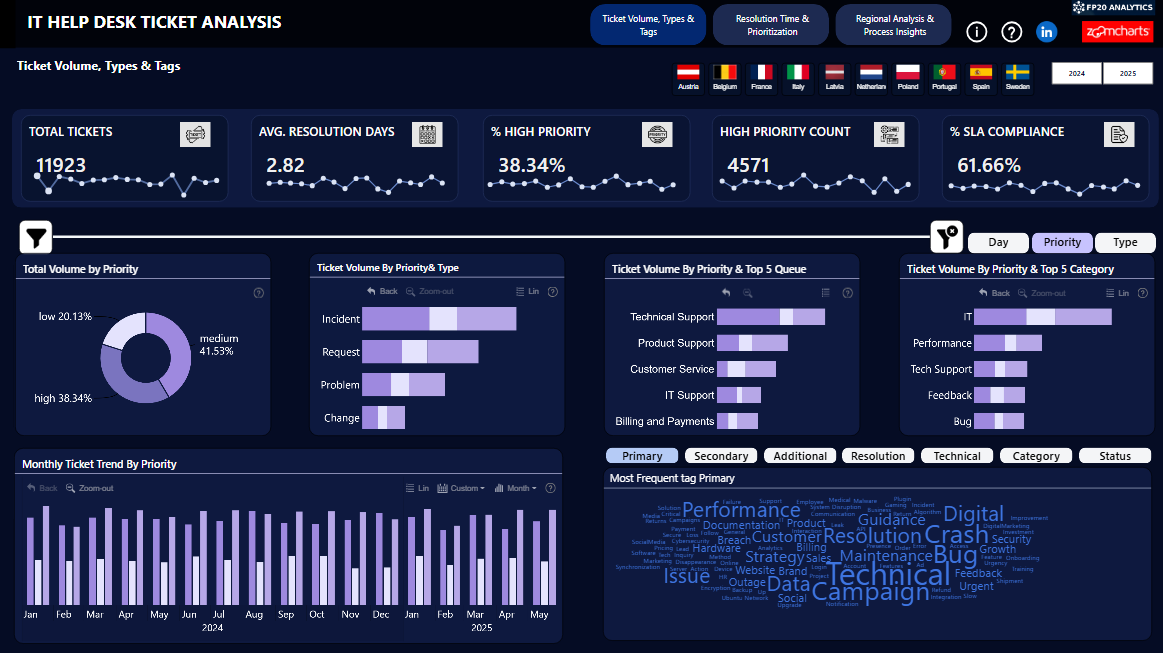

The page's visual inventory and layout, read from the dashboard file:
{"tool":"powerbi","page":{"name":"Ticket Volume, Types & Tags","canvas":[1920,1080],"ordinal":0},"visuals":[{"type":"textbox","box":[0,0,31.6,83.5],"z":0},{"type":"shape","box":[24.2,128.7,1880.3,162],"z":0,"group":"g10"},{"type":"cardVisual","title":"AVG. RESOLUTION DAYS","fields":{"Data":["dax_measures.Avg Resolution Days"]},"box":[415,138.5,340,141.8],"z":0,"group":"g4"},{"type":"cardVisual","title":"% HIGH PRIORITY ","fields":{"Data":["dax_measures.High Priority %"]},"box":[794.4,138.5,340,141.8],"z":0,"group":"g3"},{"type":"cardVisual","title":"HIGH PRIORITY COUNT","fields":{"Data":["dax_measures.High Priority"]},"box":[1171.2,138.5,340,141.8],"z":0,"group":"g2"},{"type":"cardVisual","title":"% SLA COMPLIANCE ","fields":{"Data":["dax_measures.SLA Compliance %"]},"box":[1548.3,138.5,340,141.8],"z":0,"group":"g1"},{"type":"cardVisual","title":"TOTAL TICKETS ","fields":{"Data":["dax_measures.Total Tickets"]},"box":[38.2,139.1,340,141.8],"z":0,"group":"g6"},{"type":"actionButton","box":[1593.9,323.9,100,38.6],"z":0,"group":"g7"},{"type":"actionButton","box":[1596,325.6,100,38.6],"z":0,"group":"g8"},{"type":"ZoomChartsPieChartPaidE77E4ED357DC402ABA005987437CF500","title":"Total Volume by Day Type ","fields":{"Category":["dim_date.Weekend Flag"],"Values":["dax_measures.Total Tickets"]},"box":[32.1,379,432.8,326.2],"z":0,"group":"g5"},{"type":"actionButton","box":[935.7,718.6,120,40],"z":0,"group":"g9"},{"type":"group","id":"g1","title":"KPI Cards","box":[38.2,138.5,1850.1,143.1],"z":1000,"group":"g10"},{"type":"group","id":"g2","title":"Group 4","box":[1171.2,138.5,340,141.8],"z":1000,"group":"g1"},{"type":"image","box":[679.6,150.7,50,40.5],"z":1000,"group":"g4"},{"type":"image","box":[1055.4,150.7,50,40.5],"z":1000,"group":"g3"},{"type":"image","box":[1436.8,150.7,50,40.5],"z":1000,"group":"g2"},{"type":"lineChart","fields":{"Category":["dim_date.Date.Variation.Date Hierarchy.Year","dim_date.Date.Variation.Date Hierarchy.Quarter","dim_date.Date.Variation.Date Hierarchy.Month"],"Y":["dax_measures.Total Tickets"]},"box":[49.1,220.1,324.3,61.3],"z":1000,"group":"g6"},{"type":"actionButton","title":"PRIORITY","box":[1698.6,324.3,100,38.6],"z":1000,"group":"g7"},{"type":"actionButton","title":"PRIORITY","box":[1700.7,326,100,38.6],"z":1000,"group":"g8"},{"type":"shape","box":[22.9,364.3,1887.1,702.9],"z":1000},{"type":"ZoomChartsDrillDownComboBarProE77E4ED357DC402ABA005987437CF8","title":"Ticket Volume By Day Type & Type ","fields":{"Values1":["dax_measures.Total Tickets"],"Legend":["dim_date.Weekend Flag"],"Category":["fact_tickets.Type"]},"box":[475.4,381.5,452.3,325],"z":1000,"group":"g5"},{"type":"actionButton","box":[1065.7,718.6,120,40],"z":1000,"group":"g9"},{"type":"image","box":[299.6,150.7,50,40.5],"z":2000,"group":"g6"},{"type":"image","box":[1813.9,150.7,50,40.5],"z":2000,"group":"g1"},{"type":"lineChart","fields":{"Category":["dim_date.Date.Variation.Date Hierarchy.Year","dim_date.Date.Variation.Date Hierarchy.Quarter","dim_date.Date.Variation.Date Hierarchy.Month"],"Y":["dax_measures.Avg Resolution Days"]},"box":[429.2,219.5,313.9,62.1],"z":2000,"group":"g4"},{"type":"lineChart","fields":{"Category":["dim_date.Date.Variation.Date Hierarchy.Year","dim_date.Date.Variation.Date Hierarchy.Quarter","dim_date.Date.Variation.Date Hierarchy.Month"],"Y":["dax_measures.High Priority %"]},"box":[791.8,219.5,330,60.8],"z":2000,"group":"g3"},{"type":"lineChart","fields":{"Category":["dim_date.Date.Variation.Date Hierarchy.Year","dim_date.Date.Variation.Date Hierarchy.Quarter","dim_date.Date.Variation.Date Hierarchy.Month"],"Y":["dax_measures.High Priority"]},"box":[1172.5,219.5,335,60.8],"z":2000,"group":"g2"},{"type":"shape","box":[82.8,269,1437.9,110.3],"z":2000},{"type":"actionButton","box":[1802.6,324.1,100,38],"z":2000,"group":"g7"},{"type":"actionButton","box":[1804.7,325.8,100,38],"z":2000,"group":"g8"},{"type":"ZoomChartsDrillDownComboBarProE77E4ED357DC402ABA005987437CF8","title":"Ticket Volume By Day Type & Top 5 Queue","fields":{"Values1":["dax_measures.Total Tickets"],"Legend":["dim_date.Weekend Flag"],"Category":["fact_tickets.Queue"]},"box":[938,382.3,478.7,324.6],"z":2000,"group":"g5"},{"type":"actionButton","box":[1195.7,718.6,120,40],"z":2000,"group":"g9"},{"type":"textbox","title":"IT HELP DESK TICKET ANALYSIS","box":[31.8,0,1888.2,83],"z":3000},{"type":"group","id":"g3","title":"Group 3","box":[791.8,138.5,342.6,141.8],"z":3000,"group":"g1"},{"type":"ZoomChartsDrillDownTimelinePro7F6C01BA1C534E9AB4A6BCCB44F591","title":"Monthly Ticket Trend","fields":{"Values1":["dax_measures.Total Tickets"],"Category":["dim_date.Date.Variation.Date Hierarchy.Year","dim_date.Date.Variation.Date Hierarchy.Quarter","dim_date.Date.Variation.Date Hierarchy.Month","dim_date.Date.Variation.Date Hierarchy.Day"],"DateValue":["Min(dim_date.Date)"],"Legend":["dim_date.Weekend Flag"]},"box":[38.5,716.9,890.8,340],"z":3000,"group":"g5"},{"type":"actionButton","box":[1325.7,718.6,120,40],"z":3000,"group":"g9"},{"type":"textbox","title":"Ticket Volume, Types & Tags","box":[22.9,90,371.4,60],"z":4000},{"type":"lineChart","fields":{"Category":["dim_date.Date.Variation.Date Hierarchy.Year","dim_date.Date.Variation.Date Hierarchy.Quarter","dim_date.Date.Variation.Date Hierarchy.Month"],"Y":["dax_measures.SLA Compliance %"]},"box":[1547.5,219.5,335.7,61.3],"z":4000,"group":"g1"},{"type":"ZoomChartsDrillDownComboBarProE77E4ED357DC402ABA005987437CF8","title":"Ticket Volume By Day Type & Top 5 Category","fields":{"Values1":["dax_measures.Total Tickets"],"Category":["fact_tickets.Category Tag"],"Legend":["dim_date.Weekend Flag"]},"box":[1423.1,381.5,480,324.6],"z":4000,"group":"g5"},{"type":"actionButton","box":[1455.7,718.6,120,40],"z":4000,"group":"g9"},{"type":"group","id":"g4","title":"Group 2","box":[415,138.5,340,143.1],"z":5000,"group":"g1"},{"type":"group","id":"g5","title":"Day Type Plots","box":[32.1,379,1871,677.9],"z":5000},{"type":"actionButton","box":[1585.7,718.6,120,40],"z":5000,"group":"g9"},{"type":"group","id":"g6","title":"Group 1","box":[38.2,139.1,340,142.3],"z":6000,"group":"g1"},{"type":"actionButton","box":[1715.7,718.6,120,40],"z":6000,"group":"g9"},{"type":"group","id":"g7","title":"Slicer Buttons","box":[1593.9,323.9,308.7,39],"z":8000},{"type":"group","id":"g8","title":"Slicer Buttons Day Active ","box":[1596,325.6,308.9,39.4],"z":11000},{"type":"group","id":"g9","title":"Tag Buttons Primary","box":[935.7,718.6,900,40],"z":12000},{"type":"WordCloud1447959067750","title":"Most Frequent tag Status","fields":{"Category":["fact_tickets.Status Tag"]},"box":[939.1,758.6,962.8,299],"z":19000},{"type":"WordCloud1447959067750","title":"Most Frequent tag Category ","fields":{"Category":["fact_tickets.Category Tag"]},"box":[936.1,757.4,967.2,300],"z":20000},{"type":"WordCloud1447959067750","title":"Most Frequent tag Technical ","fields":{"Category":["fact_tickets.Technical Tag"]},"box":[936.4,757.3,952.2,300.3],"z":21000},{"type":"WordCloud1447959067750","title":"Most Frequent tag Resolution","fields":{"Category":["fact_tickets.Resolution Tag"]},"box":[939.1,758.6,949.6,299],"z":22000},{"type":"WordCloud1447959067750","title":"Most Frequent tag Additional ","fields":{"Category":["fact_tickets.Additional Tag"]},"box":[939.1,757.3,949.6,300.3],"z":23000},{"type":"WordCloud1447959067750","title":"Most Frequent tag Secondary","fields":{"Category":["fact_tickets.Secondary Tag"]},"box":[939.1,757.3,949.6,299],"z":24000},{"type":"WordCloud1447959067750","title":"Most Frequent tag Primary ","fields":{"Category":["fact_tickets.Primary Tag"]},"box":[936.4,758.6,966.7,297.7],"z":25000},{"type":"group","id":"g10","title":"Group 6","box":[24.2,128.7,1880.6,162],"z":26000},{"type":"image","box":[1520.7,296.6,55.2,55.2],"z":27000},{"type":"image","box":[24.6,296.7,55.7,55.7],"z":28000},{"type":"image","box":[1758,35.2,162.5,45.5],"z":30000},{"type":"image","box":[1758,0,148.4,34.8],"z":31000},{"type":"image","box":[1700.4,34.8,45.4,45.4],"z":32000},{"type":"actionButton","box":[1585.4,34.8,45.4,45.4],"z":33000},{"type":"actionButton","box":[1642.9,34.8,45.4,45.4],"z":34000},{"type":"slicer","fields":{"Values":["dim_date.Year"]},"box":[1703,85.1,216.4,50],"z":35000},{"type":"pageNavigator","box":[969.4,11.9,605.9,73.8],"z":37000}]}

Visuals, with their boxes in screenshot pixels (x1, y1, x2, y2), scaled from the page's 1920x1080 canvas onto the 1163x653 screenshot:
textbox: <bbox>0, 0, 19, 50</bbox>
shape: <bbox>15, 78, 1154, 176</bbox>
"AVG. RESOLUTION DAYS" cardVisual: <bbox>251, 84, 457, 169</bbox>
"% HIGH PRIORITY " cardVisual: <bbox>481, 84, 687, 169</bbox>
"HIGH PRIORITY COUNT" cardVisual: <bbox>709, 84, 915, 169</bbox>
"% SLA COMPLIANCE " cardVisual: <bbox>938, 84, 1144, 169</bbox>
"TOTAL TICKETS " cardVisual: <bbox>23, 84, 229, 170</bbox>
actionButton: <bbox>965, 196, 1026, 219</bbox>
actionButton: <bbox>967, 197, 1027, 220</bbox>
"Total Volume by Day Type " ZoomChartsPieChartPaidE77E4ED357DC402ABA005987437CF500: <bbox>19, 229, 282, 426</bbox>
actionButton: <bbox>567, 434, 639, 459</bbox>
"KPI Cards" group: <bbox>23, 84, 1144, 170</bbox>
"Group 4" group: <bbox>709, 84, 915, 169</bbox>
image: <bbox>412, 91, 442, 116</bbox>
image: <bbox>639, 91, 670, 116</bbox>
image: <bbox>870, 91, 901, 116</bbox>
lineChart - dim_date.Date.Variation.Date Hierarchy.Year x dim_date.Date.Variation.Date Hierarchy.Quarter: <bbox>30, 133, 226, 170</bbox>
"PRIORITY" actionButton: <bbox>1029, 196, 1089, 219</bbox>
"PRIORITY" actionButton: <bbox>1030, 197, 1091, 220</bbox>
shape: <bbox>14, 220, 1157, 645</bbox>
"Ticket Volume By Day Type & Type " ZoomChartsDrillDownComboBarProE77E4ED357DC402ABA005987437CF8: <bbox>288, 231, 562, 427</bbox>
actionButton: <bbox>646, 434, 718, 459</bbox>
image: <bbox>181, 91, 212, 116</bbox>
image: <bbox>1099, 91, 1129, 116</bbox>
lineChart - dim_date.Date.Variation.Date Hierarchy.Year x dim_date.Date.Variation.Date Hierarchy.Quarter: <bbox>260, 133, 450, 170</bbox>
lineChart - dim_date.Date.Variation.Date Hierarchy.Year x dim_date.Date.Variation.Date Hierarchy.Quarter: <bbox>480, 133, 680, 169</bbox>
lineChart - dim_date.Date.Variation.Date Hierarchy.Year x dim_date.Date.Variation.Date Hierarchy.Quarter: <bbox>710, 133, 913, 169</bbox>
shape: <bbox>50, 163, 921, 229</bbox>
actionButton: <bbox>1092, 196, 1152, 219</bbox>
actionButton: <bbox>1093, 197, 1154, 220</bbox>
"Ticket Volume By Day Type & Top 5 Queue" ZoomChartsDrillDownComboBarProE77E4ED357DC402ABA005987437CF8: <bbox>568, 231, 858, 427</bbox>
actionButton: <bbox>724, 434, 797, 459</bbox>
"IT HELP DESK TICKET ANALYSIS" textbox: <bbox>19, 0, 1162, 50</bbox>
"Group 3" group: <bbox>480, 84, 687, 169</bbox>
"Monthly Ticket Trend" ZoomChartsDrillDownTimelinePro7F6C01BA1C534E9AB4A6BCCB44F591: <bbox>23, 433, 563, 639</bbox>
actionButton: <bbox>803, 434, 876, 459</bbox>
"Ticket Volume, Types & Tags" textbox: <bbox>14, 54, 239, 91</bbox>
lineChart - dim_date.Date.Variation.Date Hierarchy.Year x dim_date.Date.Variation.Date Hierarchy.Quarter: <bbox>937, 133, 1141, 170</bbox>
"Ticket Volume By Day Type & Top 5 Category" ZoomChartsDrillDownComboBarProE77E4ED357DC402ABA005987437CF8: <bbox>862, 231, 1153, 427</bbox>
actionButton: <bbox>882, 434, 954, 459</bbox>
"Group 2" group: <bbox>251, 84, 457, 170</bbox>
"Day Type Plots" group: <bbox>19, 229, 1153, 639</bbox>
actionButton: <bbox>961, 434, 1033, 459</bbox>
"Group 1" group: <bbox>23, 84, 229, 170</bbox>
actionButton: <bbox>1039, 434, 1112, 459</bbox>
"Slicer Buttons" group: <bbox>965, 196, 1152, 219</bbox>
"Slicer Buttons Day Active " group: <bbox>967, 197, 1154, 221</bbox>
"Tag Buttons Primary" group: <bbox>567, 434, 1112, 459</bbox>
"Most Frequent tag Status" WordCloud1447959067750: <bbox>569, 459, 1152, 639</bbox>
"Most Frequent tag Category " WordCloud1447959067750: <bbox>567, 458, 1153, 639</bbox>
"Most Frequent tag Technical " WordCloud1447959067750: <bbox>567, 458, 1144, 639</bbox>
"Most Frequent tag Resolution" WordCloud1447959067750: <bbox>569, 459, 1144, 639</bbox>
"Most Frequent tag Additional " WordCloud1447959067750: <bbox>569, 458, 1144, 639</bbox>
"Most Frequent tag Secondary" WordCloud1447959067750: <bbox>569, 458, 1144, 639</bbox>
"Most Frequent tag Primary " WordCloud1447959067750: <bbox>567, 459, 1153, 639</bbox>
"Group 6" group: <bbox>15, 78, 1154, 176</bbox>
image: <bbox>921, 179, 955, 213</bbox>
image: <bbox>15, 179, 49, 213</bbox>
image: <bbox>1065, 21, 1162, 49</bbox>
image: <bbox>1065, 0, 1155, 21</bbox>
image: <bbox>1030, 21, 1057, 48</bbox>
actionButton: <bbox>960, 21, 988, 48</bbox>
actionButton: <bbox>995, 21, 1023, 48</bbox>
slicer - dim_date.Year: <bbox>1032, 51, 1162, 82</bbox>
pageNavigator: <bbox>587, 7, 954, 52</bbox>
